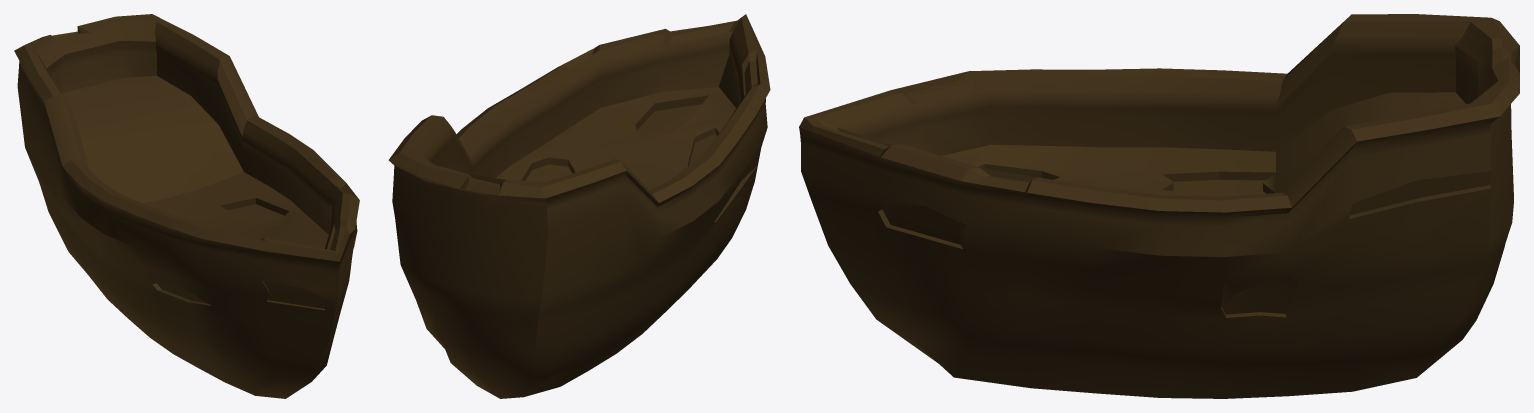
3 views of the same model, side by side, from view 1: azimuth 30°, elevation 25°; view 2: azimuth 150°, elevation 25°; view 3: azimuth 270°, elevation 25° (orthographic). The views are drawn at different scales.
Visible parts, largest first — view 1: barco50; view 2: barco50; view 3: barco50.
Part boxes in pixels (<box>): barco50: <box>14,14,359,398</box>; barco50: <box>388,14,770,398</box>; barco50: <box>799,14,1519,398</box>.
Bounding box in the file's own units: 2.22 × 2.45 × 4.8.
